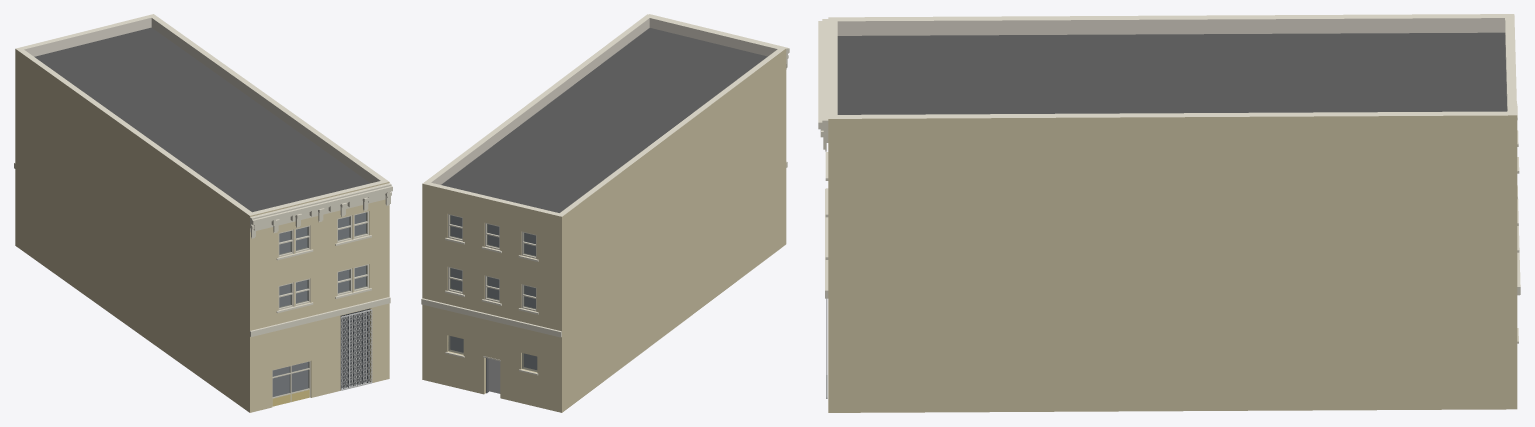
The model's file is exterior.glb.
3 renders of one model, left to right at view 1: azimuth 30°, elevation 25°; view 2: azimuth 150°, elevation 25°; view 3: azimuth 270°, elevation 25°, orthographic. The views are drawn at different scales.
Parts seen in each view (by area): view 1: shell, roof, trim, shadow-proxy, glazing, storefront, lattice-gates-3, frames, front-dressing-r4; view 2: shell, roof, glazing, shadow-proxy, trim, frames; view 3: shell, roof, trim.
Boxes of the visible parts, left/top/right/bottom form: shell: left=15, top=14, right=389, bottom=412; roof: left=34, top=27, right=369, bottom=212; trim: left=14, top=163, right=392, bottom=336; shadow-proxy: left=273, top=213, right=366, bottom=396; glazing: left=272, top=212, right=366, bottom=396; storefront: left=272, top=308, right=369, bottom=406; lattice-gates-3: left=340, top=309, right=372, bottom=390; frames: left=278, top=211, right=368, bottom=309; front-dressing-r4: left=250, top=192, right=391, bottom=238; shell: left=422, top=14, right=786, bottom=412; roof: left=441, top=28, right=767, bottom=212; glazing: left=448, top=215, right=537, bottom=371; shadow-proxy: left=450, top=215, right=536, bottom=393; trim: left=421, top=14, right=789, bottom=375; frames: left=448, top=214, right=536, bottom=311; shell: left=828, top=14, right=1517, bottom=412; roof: left=837, top=32, right=1507, bottom=114; trim: left=818, top=19, right=1520, bottom=343.
Size of the model in its own units: 8.92 by 11.64 by 25.2.
